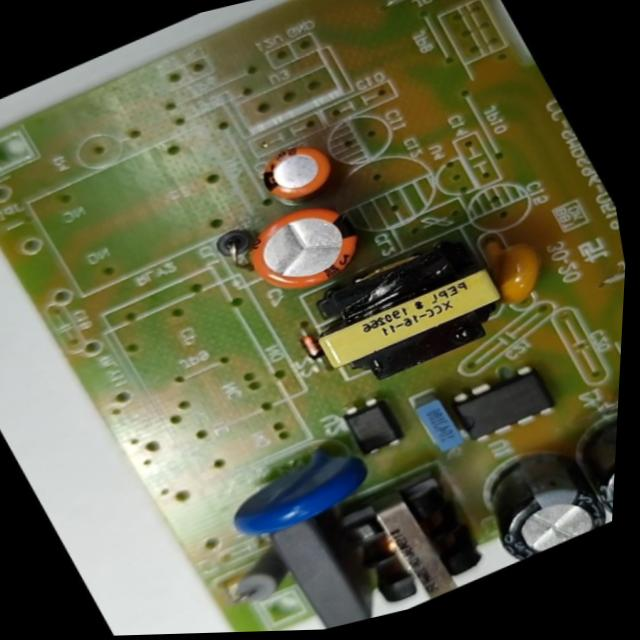Cap1: (222, 179, 387, 316)
Cap2: (241, 124, 359, 223)
Cap3: (454, 426, 617, 572)
Cap4: (549, 392, 619, 531)
MOSFET: (424, 346, 577, 461)
Mov: (196, 423, 403, 561)
Resistor: (213, 535, 309, 615)
Transformer: (270, 207, 539, 410), (297, 444, 512, 628)
